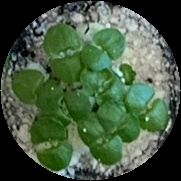Basil: (80, 115, 123, 165), (129, 88, 171, 132), (35, 121, 69, 171), (49, 28, 80, 78), (80, 31, 121, 68), (100, 104, 139, 141), (11, 75, 58, 104), (67, 79, 99, 116)
